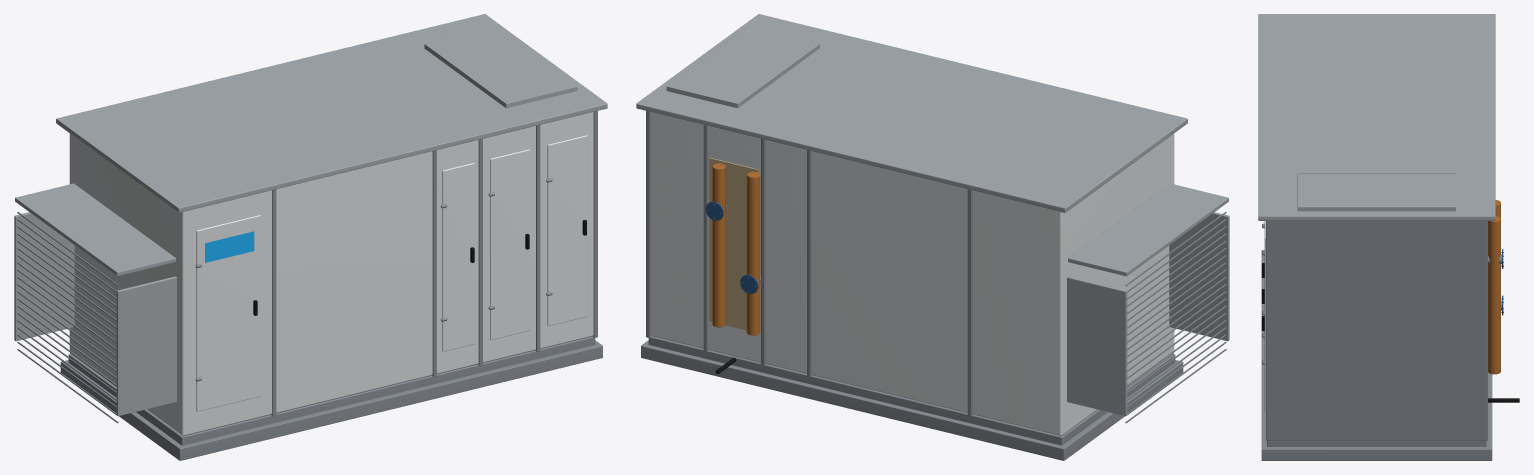
Rendered from oau.5085f8c8.glb.
3 renders of one model, left to right at view 1: azimuth 30°, elevation 25°; view 2: azimuth 150°, elevation 25°; view 3: azimuth 270°, elevation 25°, orthographic. The views are drawn at different scales.
Parts seen in each view (by area): view 1: casing, weather, screen; view 2: casing, weather; view 3: casing, weather.
Boxes of the visible parts, x1,y1,x2,y2 form: casing: (68, 26, 597, 445); weather: (14, 14, 607, 460); screen: (205, 231, 254, 262); casing: (646, 26, 1175, 445); weather: (636, 14, 1229, 460); casing: (1261, 173, 1519, 446); weather: (1258, 14, 1495, 460).
Bounding box in the file's own units: 4.88 × 2.52 × 2.38.
